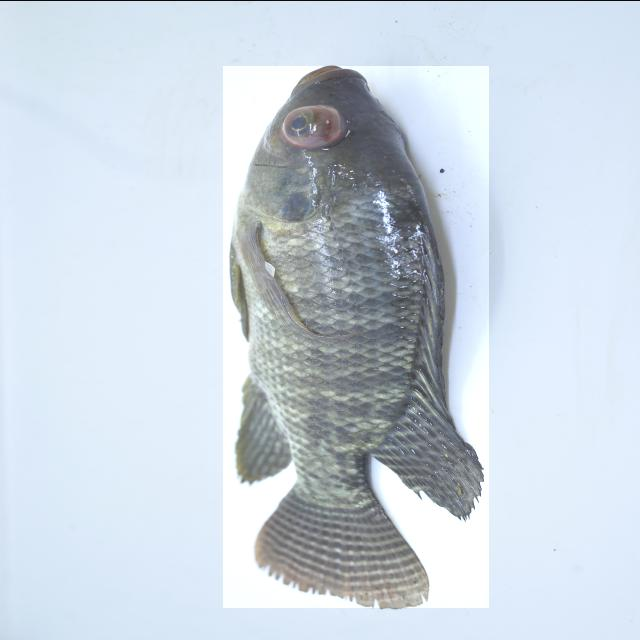streptococcus Disease: (223, 65, 489, 607)
